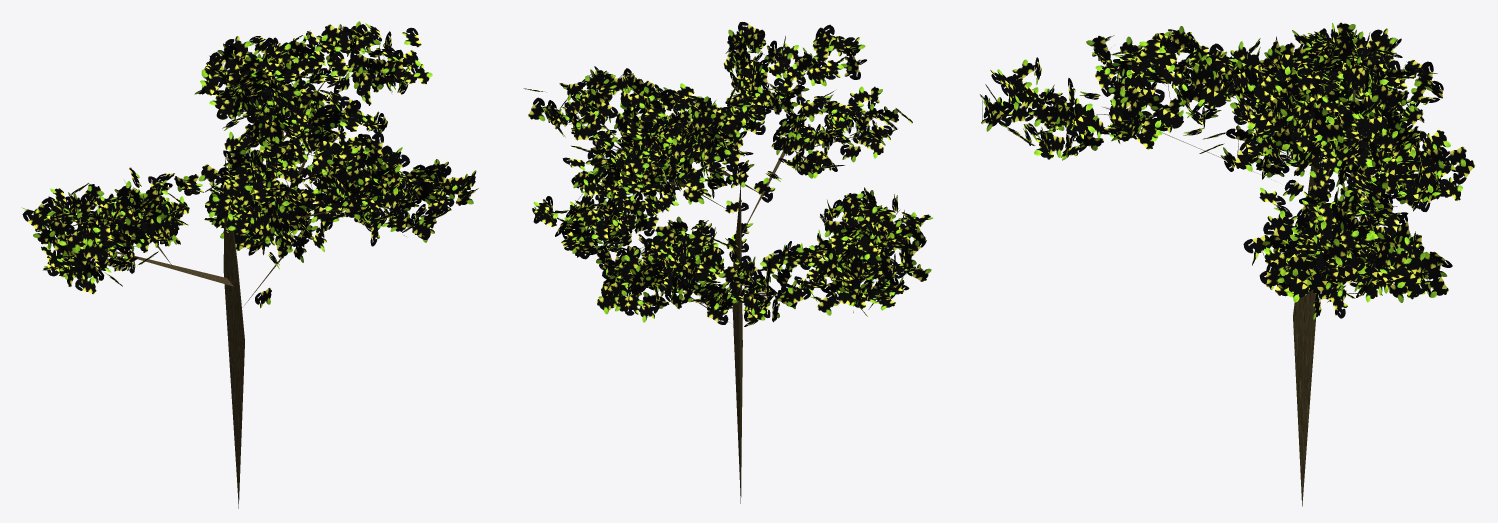
File: acacia_flat_v02_LOD2.fbx
3 views of the same model, side by side, from view 1: azimuth 30°, elevation 25°; view 2: azimuth 150°, elevation 25°; view 3: azimuth 270°, elevation 25° (orthographic). The views are drawn at different scales.
Visible parts, largest first — view 1: acacia_flat_v02_LOD2; view 2: acacia_flat_v02_LOD2; view 3: acacia_flat_v02_LOD2.
Boxes of the visible parts, box(x1,y1,x2,y2) form: acacia_flat_v02_LOD2: box(21, 21, 478, 508); acacia_flat_v02_LOD2: box(523, 22, 932, 503); acacia_flat_v02_LOD2: box(980, 22, 1475, 506).
Bounding box in the file's own units: 1043 × 990 × 1083.
2 materials, 2 textured.
